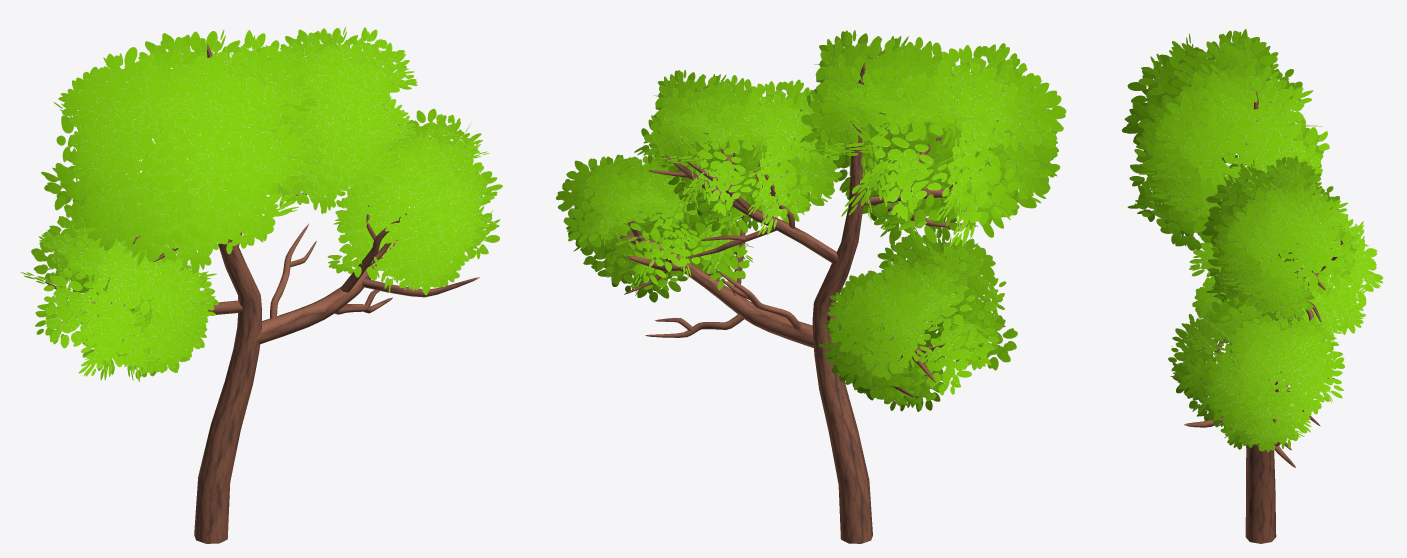
File: tree_young_3.glb
3 views of the same model, side by side, from view 1: azimuth 30°, elevation 25°; view 2: azimuth 150°, elevation 25°; view 3: azimuth 270°, elevation 25° (orthographic). The views are drawn at different scales.
Visible parts, largest first — view 1: NormalTree_3; view 2: NormalTree_3; view 3: NormalTree_3.
Boxes of the visible parts, x1,y1,x2,y2 form: NormalTree_3: (20, 26, 502, 543); NormalTree_3: (556, 30, 1066, 543); NormalTree_3: (1122, 29, 1383, 543).
Bounding box in the file's own units: 5.04 × 5.28 × 2.88.
2 materials, 2 textured.
